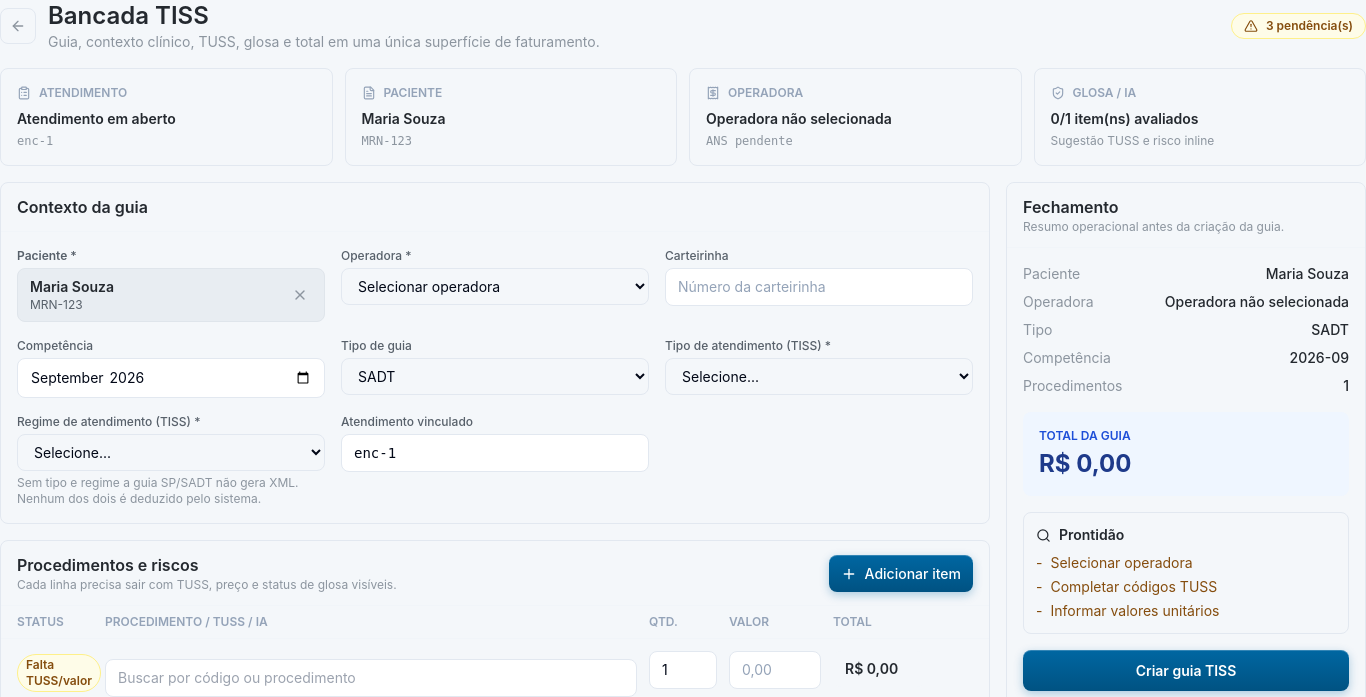
NewGuidePage › blocks creation with explicit readiness blockers
The image size is (1366, 697).
Expected: the dropdown labelled "Operadora *" is shown, top-left (341, 268), bottom-right (649, 305)
What coordinates should you click on to do the following:
click the button "Criar guia TISS"
I would click on:
 (1186, 670)
Its box is top-left (1023, 650), bottom-right (1349, 691).
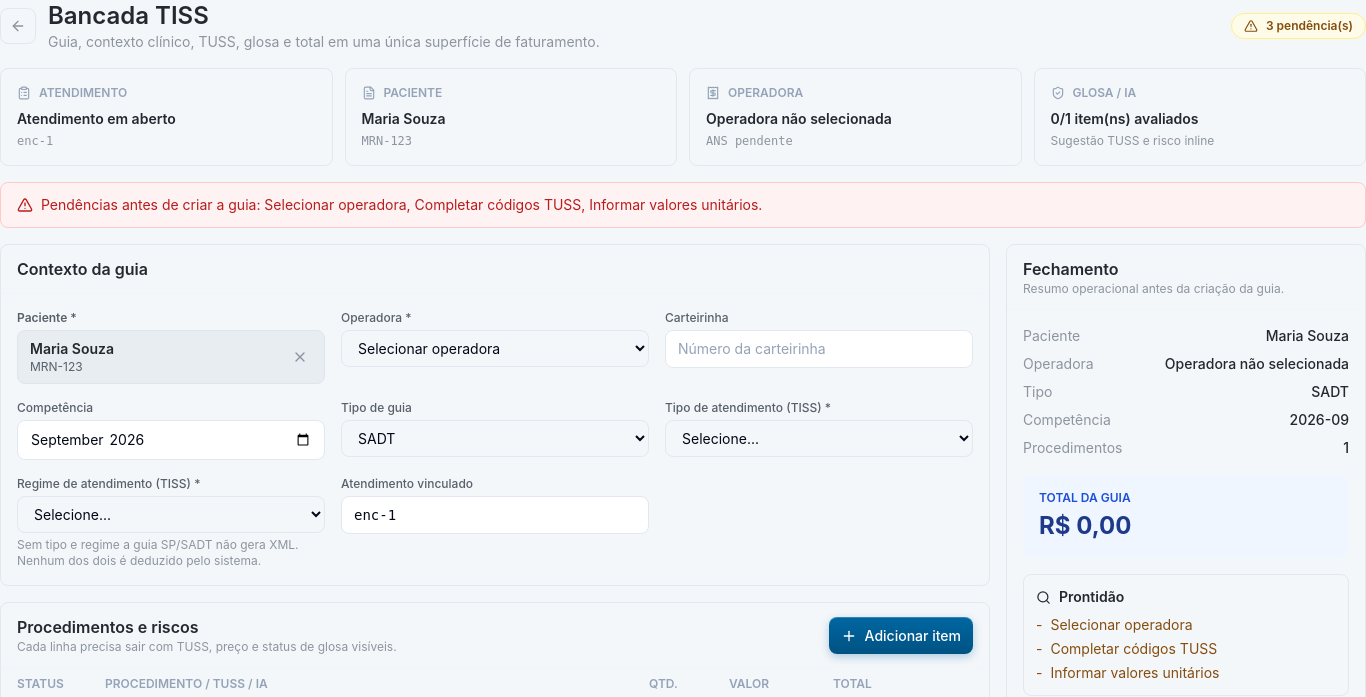
Now the text "Pendências antes de criar a guia" shows "Selecionar operadora", box top-left (41, 196), bottom-right (762, 213)
